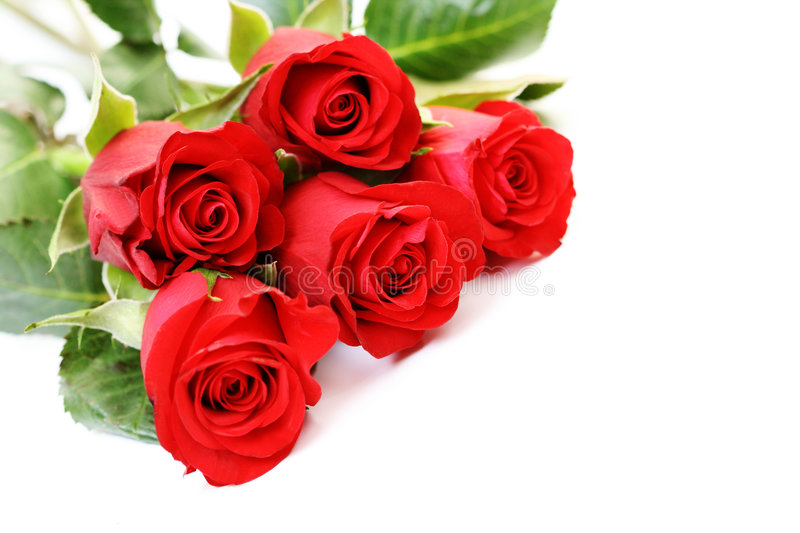RedRose: (132, 264, 329, 483), (277, 168, 480, 356), (78, 118, 280, 282), (240, 11, 421, 186)
